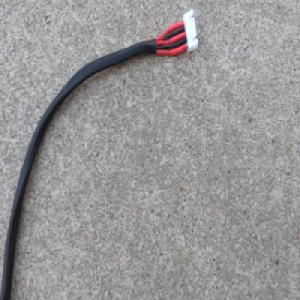Wire: (0, 5, 200, 300)
